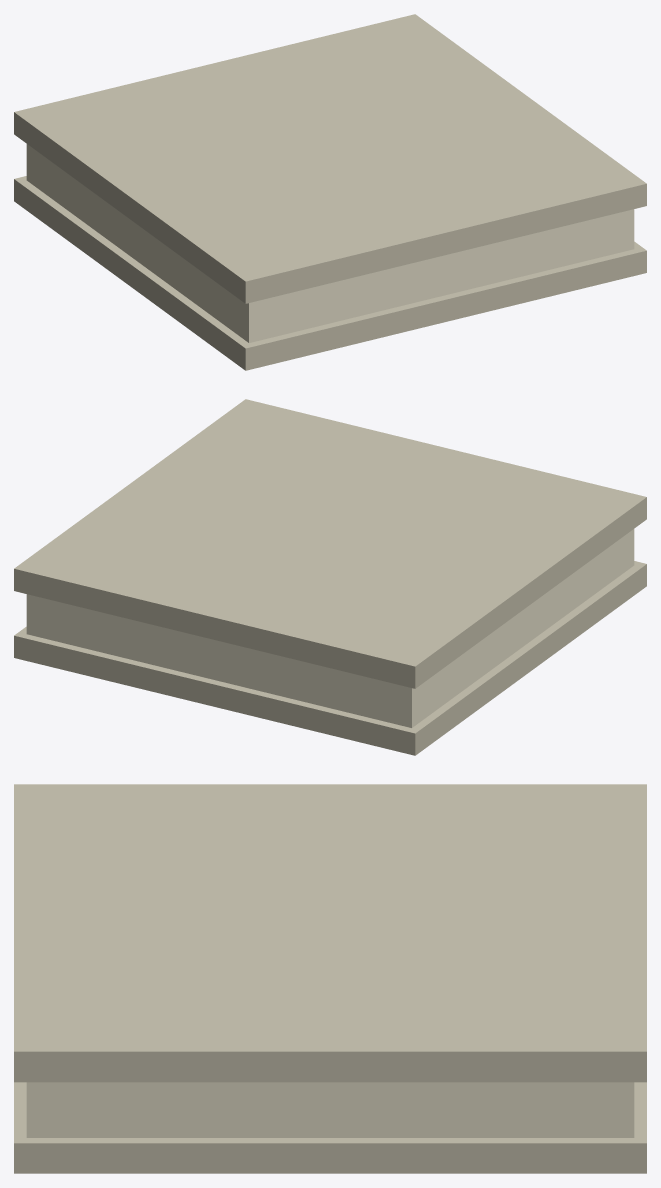
Rendered from modularBuildings_003.obj.
3 renders of one model, top to bottom at view 1: azimuth 30°, elevation 25°; view 2: azimuth 150°, elevation 25°; view 3: azimuth 270°, elevation 25°, orthographic. The views are drawn at different scales.
Parts seen in each view (by area): view 1: Mesh1 Group1 Model; view 2: Mesh1 Group1 Model; view 3: Mesh1 Group1 Model.
Boxes of the visible parts, x1,y1,x2,y2 form: Mesh1 Group1 Model: (14, 14, 646, 370); Mesh1 Group1 Model: (14, 399, 646, 755); Mesh1 Group1 Model: (14, 784, 646, 1173).
Size of the model in its own units: 1 by 0.2125 by 1.
